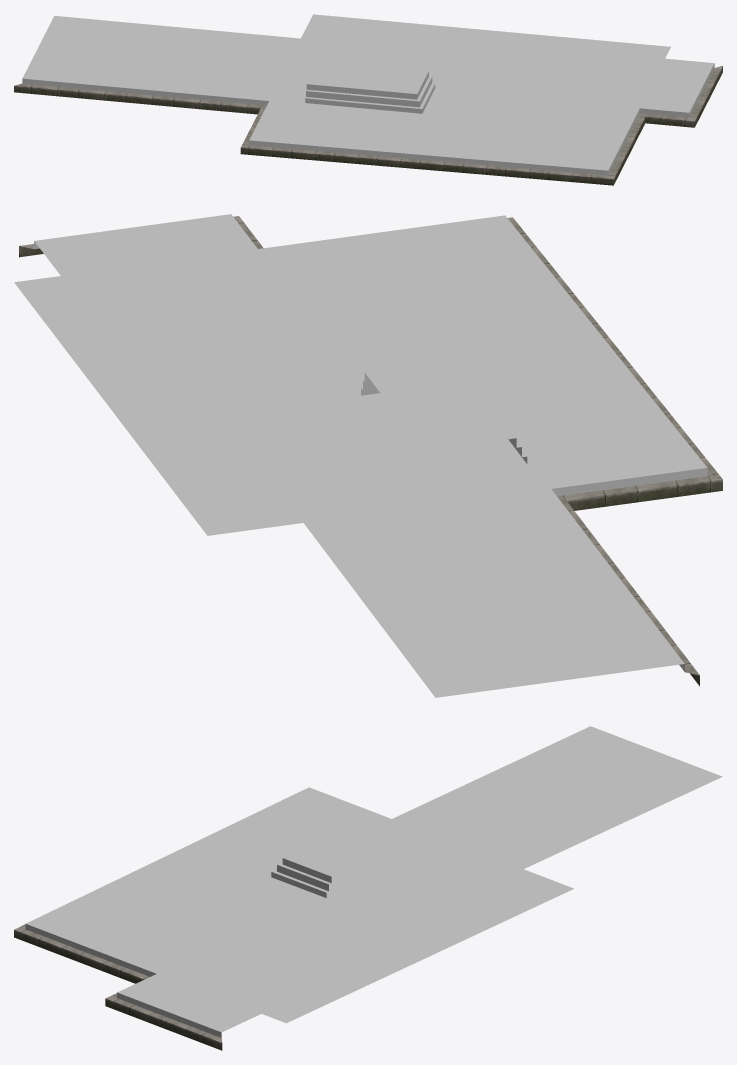
The model's file is xsz_diji_2.FBX.
3 views of the same model, one above another, from view 1: azimuth 30°, elevation 25°; view 2: azimuth 150°, elevation 25°; view 3: azimuth 270°, elevation 25° (orthographic). The views are drawn at different scales.
Visible parts, largest first — view 1: xsz_diji_2; view 2: xsz_diji_2; view 3: xsz_diji_2.
Boxes of the visible parts, <box> form: xsz_diji_2: <box>14,14,722,185</box>; xsz_diji_2: <box>14,214,722,697</box>; xsz_diji_2: <box>14,726,722,1050</box>.
Bounding box in the file's own units: 1143 × 54.65 × 1083.
